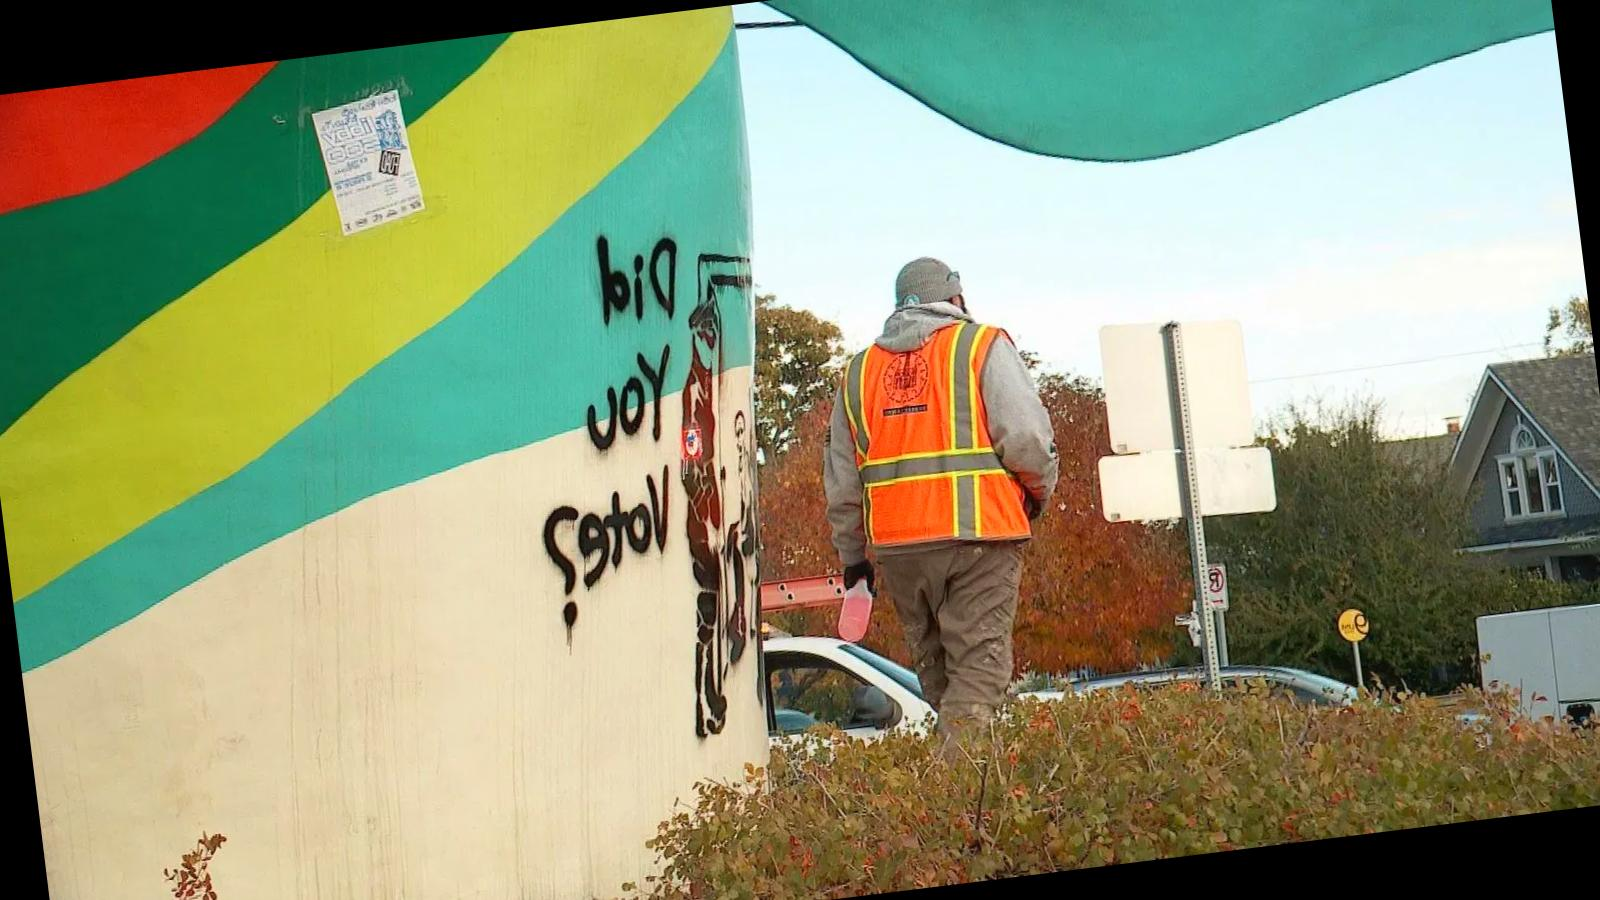graffiti: (674, 254, 759, 735), (541, 467, 673, 595), (585, 346, 670, 451), (595, 236, 677, 324)
